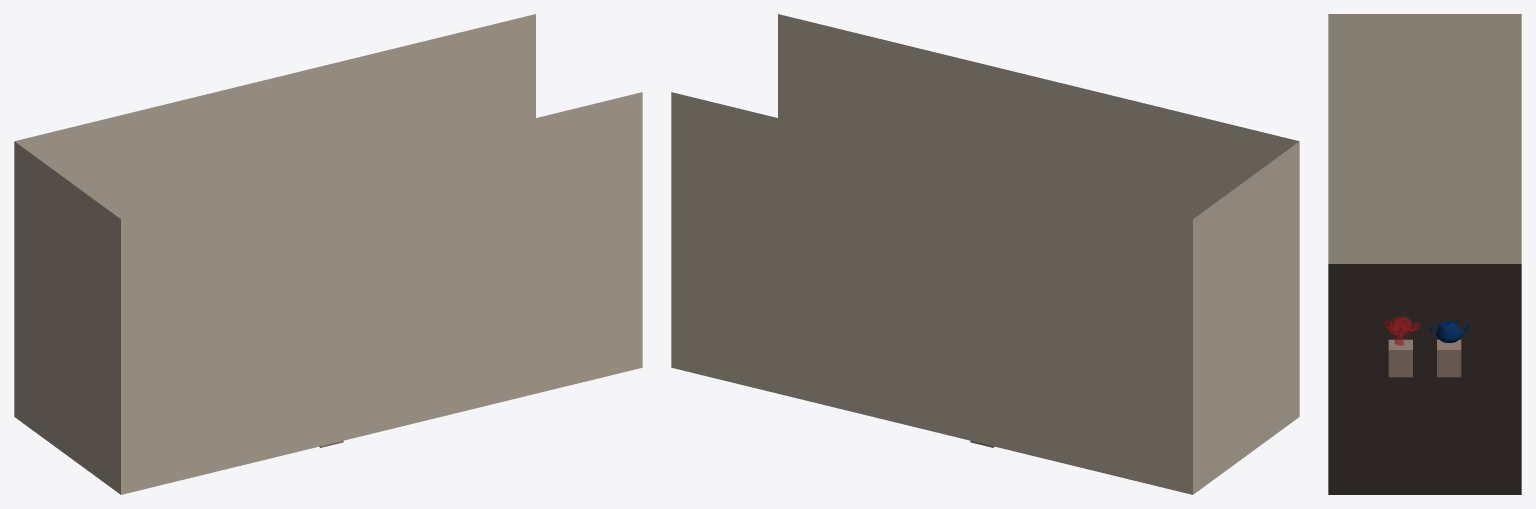
Rendered from Gallery.glb.
The picture shows the model from 3 angles, left to right: view 1: azimuth 30°, elevation 25°; view 2: azimuth 150°, elevation 25°; view 3: azimuth 270°, elevation 25°; orthographic projection. The views are drawn at different scales.
Visible parts, largest first — view 1: Plane; view 2: Plane; view 3: Plane, Cube, Cube.001, Suzanne, Utah Teapot.
Boxes of the visible parts, bbox=[...] form: Plane: bbox=[14, 14, 642, 494]; Plane: bbox=[671, 14, 1299, 494]; Plane: bbox=[1328, 14, 1521, 494]; Cube: bbox=[1388, 339, 1412, 377]; Cube.001: bbox=[1437, 339, 1461, 377]; Suzanne: bbox=[1384, 316, 1420, 345]; Utah Teapot: bbox=[1429, 320, 1471, 342].
Size of the model in its own units: 11.29 by 6.41 by 4.
